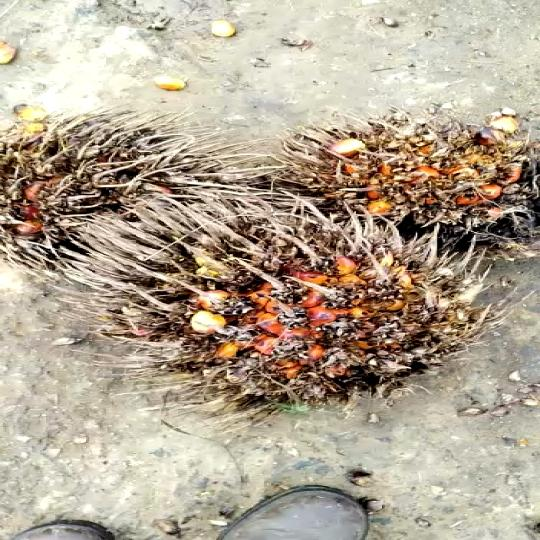terlalu masak: (62, 188, 502, 421), (257, 113, 540, 234)
